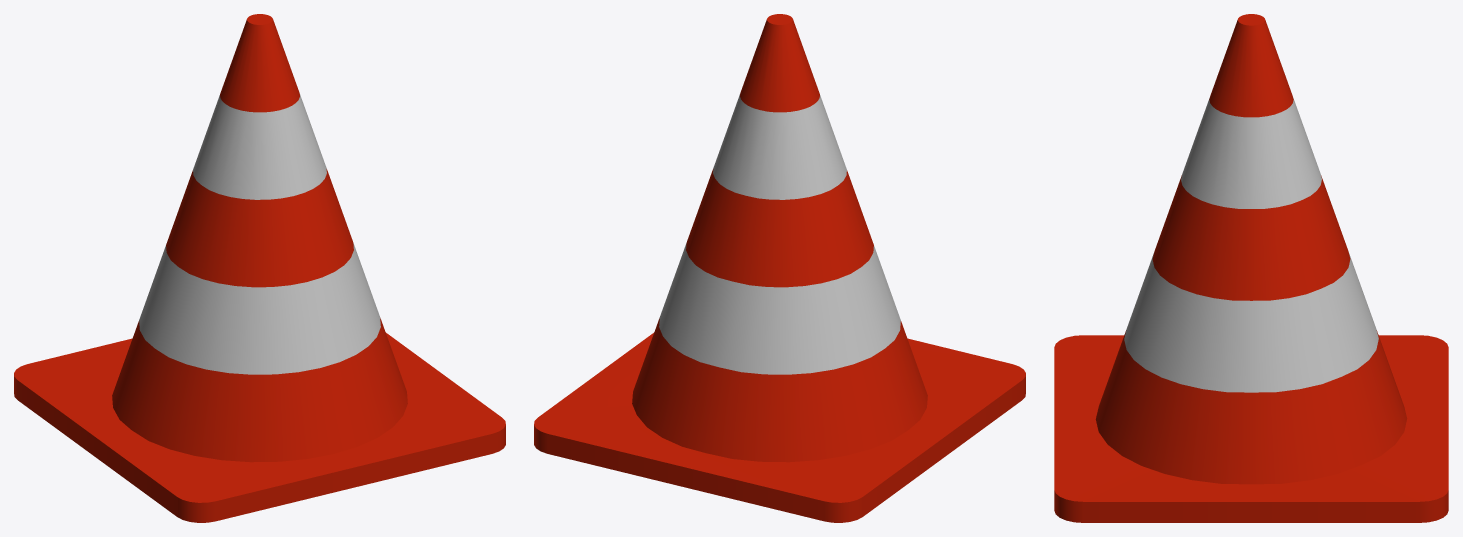
3 views of the same model, side by side, from view 1: azimuth 30°, elevation 25°; view 2: azimuth 150°, elevation 25°; view 3: azimuth 270°, elevation 25° (orthographic). The views are drawn at different scales.
Parts seen in each view (by area): view 1: traffic cone (×2); view 2: traffic cone (×2); view 3: traffic cone (×2).
Part boxes in pixels (x1=…): traffic cone (×2): x1=14, y1=14, x2=505, y2=522; traffic cone (×2): x1=534, y1=14, x2=1025, y2=522; traffic cone (×2): x1=1054, y1=14, x2=1448, y2=522.
Bounding box in the file's own units: 200 × 235 × 200.
